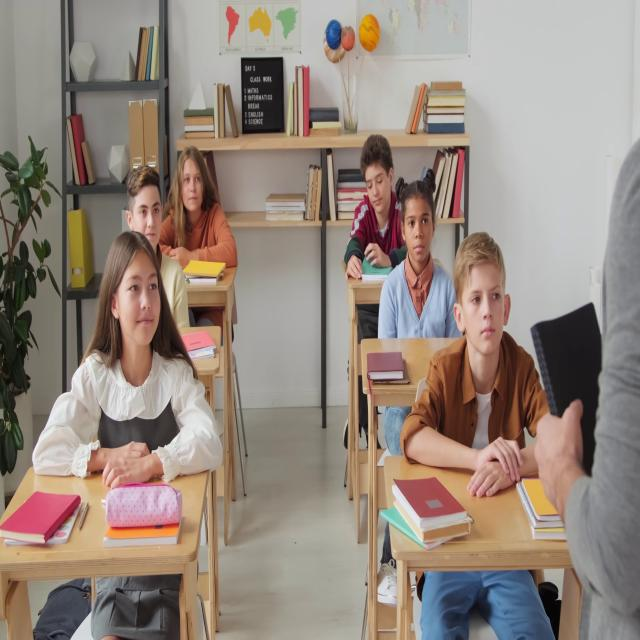listening: (399, 240, 562, 636), (33, 235, 225, 480), (163, 144, 241, 336), (375, 176, 457, 347), (126, 166, 192, 327)
reading: (344, 136, 409, 282)
